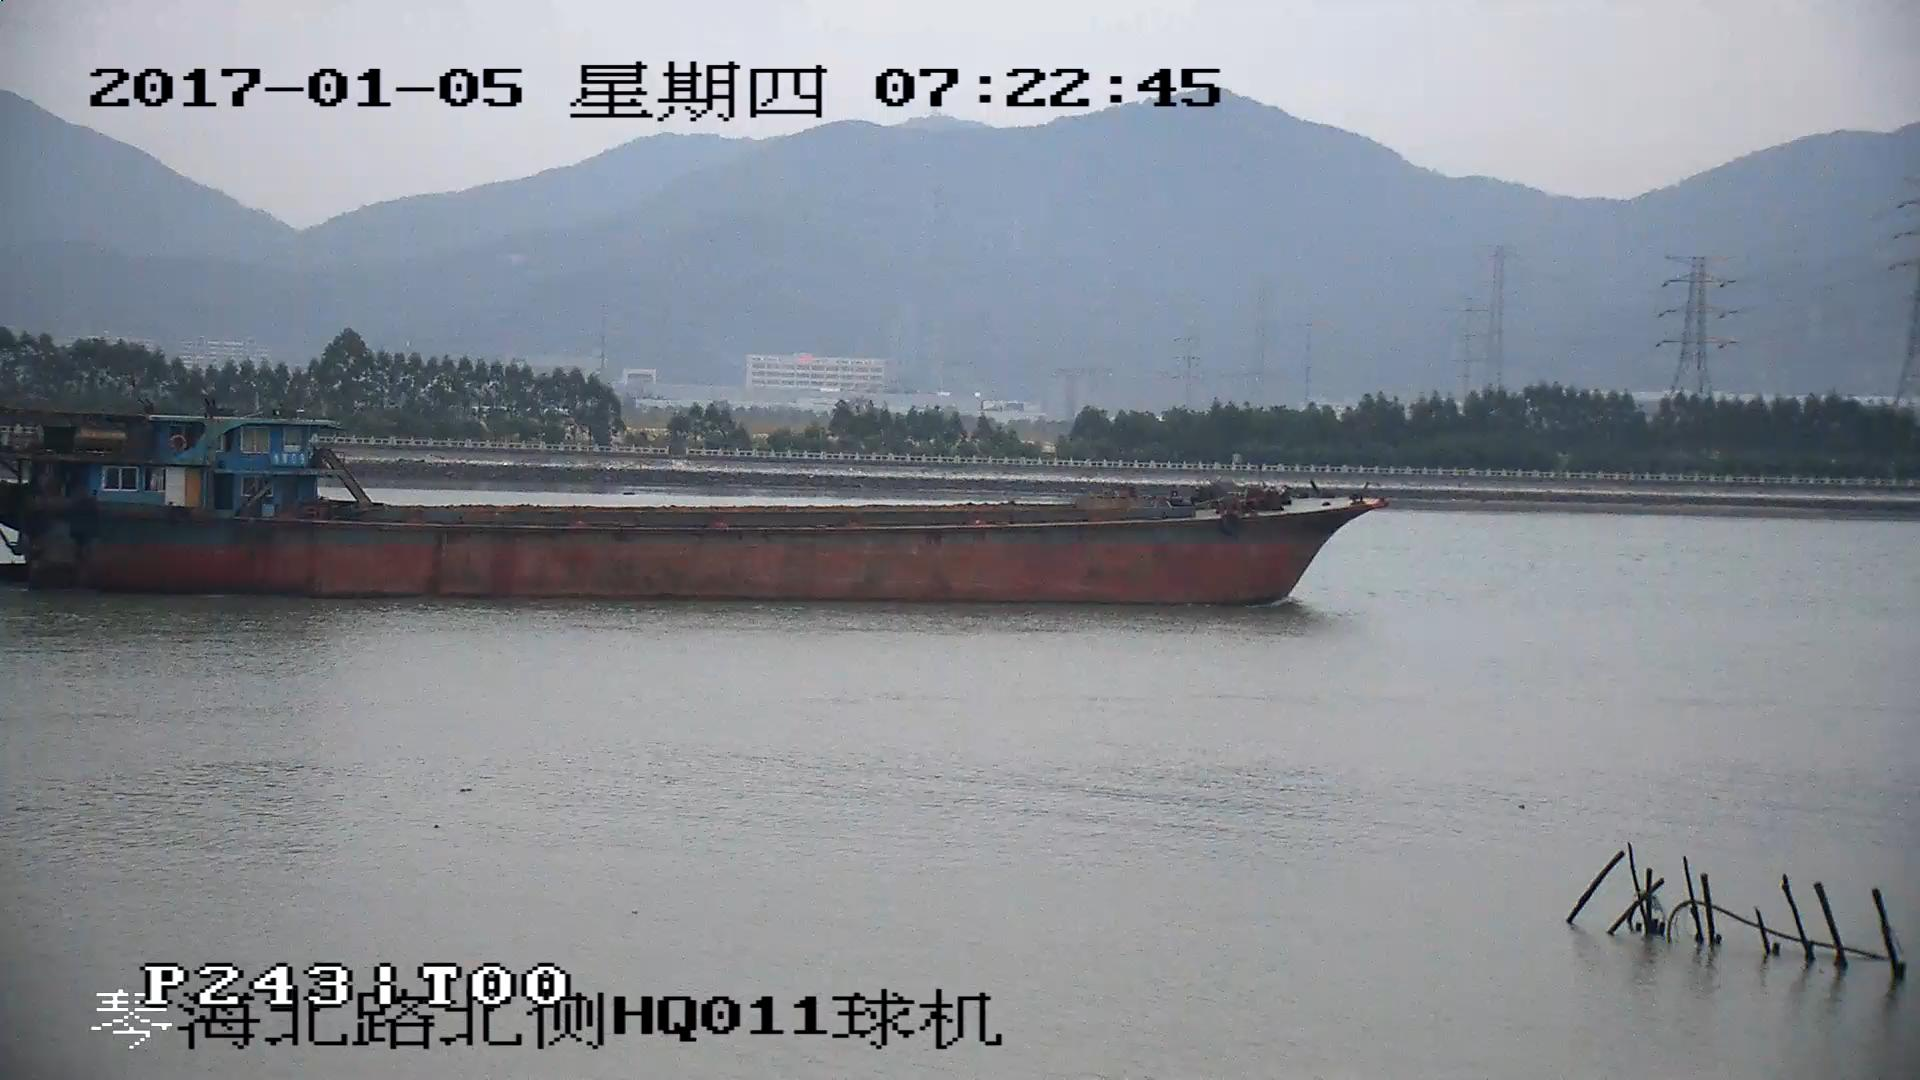bulk cargo carrier: (1, 414, 1385, 601)
